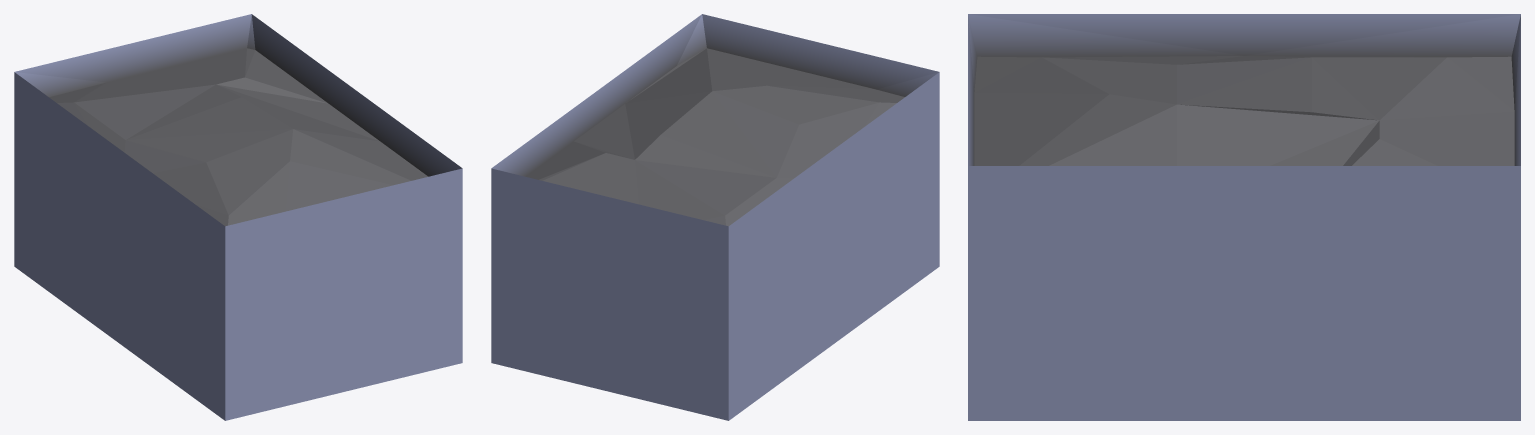
Rendered from cove-fish-crate.lod2.glb.
The picture shows the model from 3 angles, left to right: view 1: azimuth 30°, elevation 25°; view 2: azimuth 150°, elevation 25°; view 3: azimuth 270°, elevation 25°; orthographic projection. The views are drawn at different scales.
Parts seen in each view (by area): view 1: M_FishCrate_Mat_PileoFish_0; view 2: M_FishCrate_Mat_PileoFish_0; view 3: M_FishCrate_Mat_PileoFish_0.
Part boxes in pixels (<box>): M_FishCrate_Mat_PileoFish_0: <box>14,14,462,420</box>; M_FishCrate_Mat_PileoFish_0: <box>491,14,939,420</box>; M_FishCrate_Mat_PileoFish_0: <box>968,14,1520,420</box>.
Size of the model in its own units: 0.5107 by 0.4062 by 0.7858.
